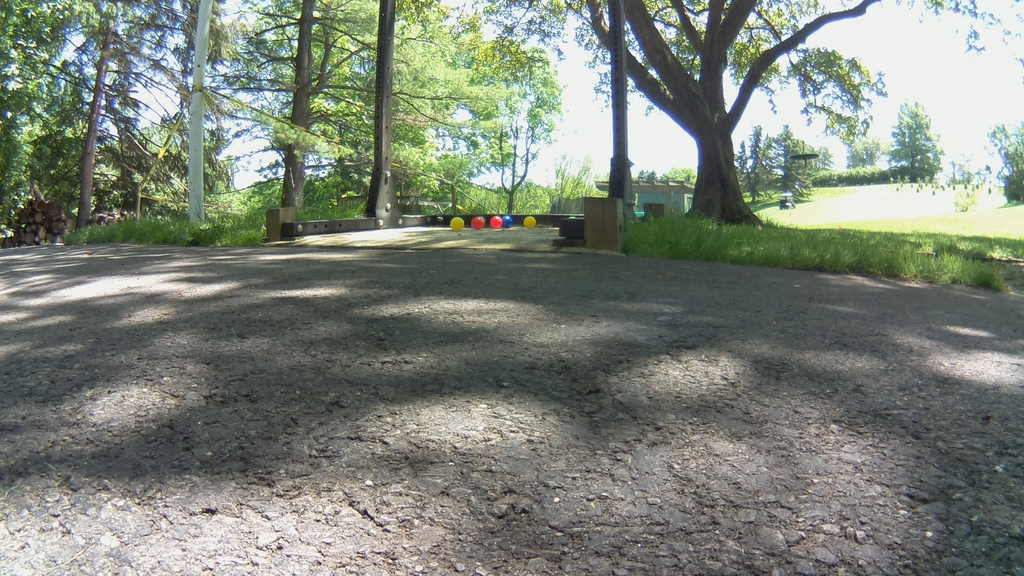ball: (501, 215, 513, 230)
